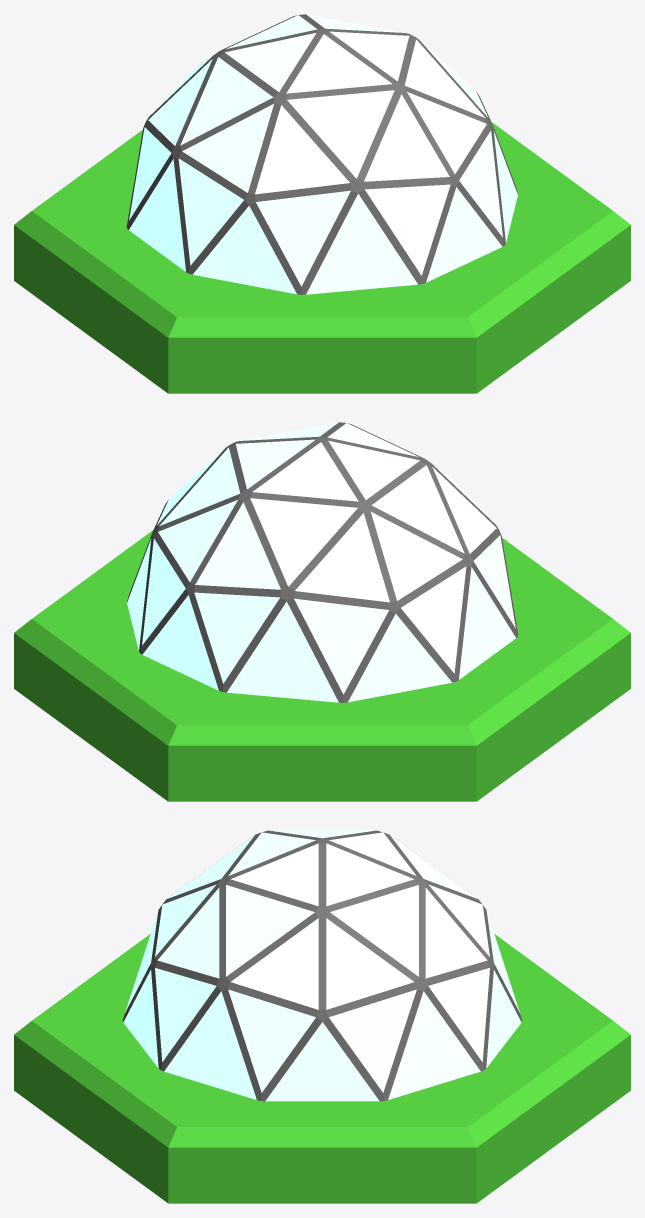
Rendered from tile_lab_sphere.fbx.
3 views of the same model, one above another, from view 1: azimuth 30°, elevation 25°; view 2: azimuth 150°, elevation 25°; view 3: azimuth 270°, elevation 25° (orthographic).
Parts seen in each view (by area): view 1: Sphere, Pad; view 2: Sphere, Pad; view 3: Sphere, Pad.
Part boxes in pixels (x1,y1,x2,y2): Sphere: (126,14,517,294); Pad: (14,122,630,393); Sphere: (127,422,518,702); Pad: (14,530,630,801); Sphere: (122,830,522,1101); Pad: (14,934,630,1203).
Size of the model in its own units: 346 by 179 by 400.
